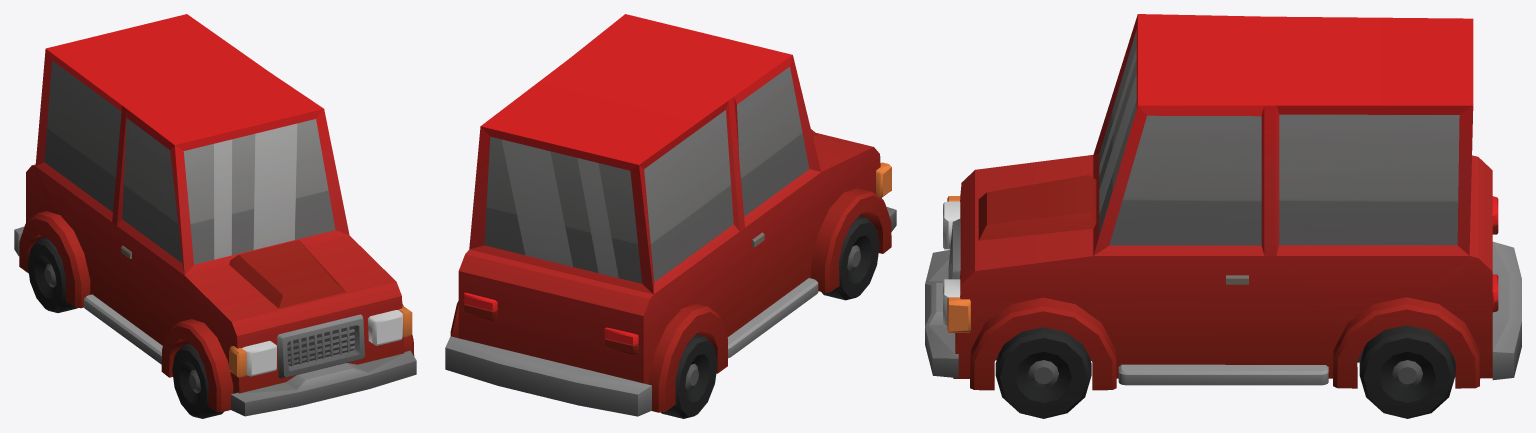
File: Car_5_6.fbx
3 views of the same model, side by side, from view 1: azimuth 30°, elevation 25°; view 2: azimuth 150°, elevation 25°; view 3: azimuth 270°, elevation 25° (orthographic). The views are drawn at different scales.
Visible parts, largest first — view 1: Car_5_6, W_br, W_fr; view 2: Car_5_6, W_br, W_fr; view 3: Car_5_6, W_bl, W_fl.
Boxes of the visible parts, left/top/right/bottom form: Car_5_6: left=14, top=14, right=416, bottom=416; W_br: left=27, top=237, right=77, bottom=312; W_fr: left=172, top=343, right=223, bottom=418; Car_5_6: left=445, top=14, right=896, bottom=416; W_br: left=661, top=334, right=717, bottom=418; W_fr: left=821, top=216, right=879, bottom=300; Car_5_6: left=925, top=14, right=1521, bottom=390; W_bl: left=1359, top=325, right=1455, bottom=418; W_fl: left=995, top=327, right=1091, bottom=418.
Bounding box in the file's own units: 113 × 130 × 233.
